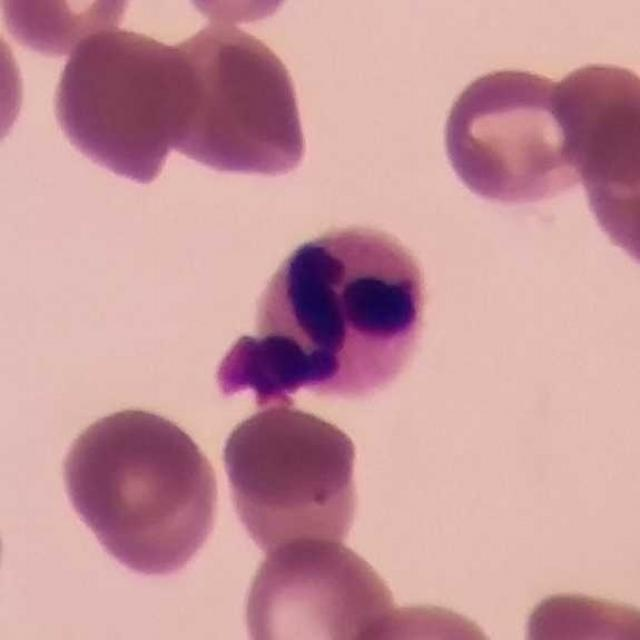Neutrophil: (204, 215, 443, 417)
RBC: (55, 398, 227, 584), (155, 23, 315, 185), (47, 23, 207, 184), (216, 399, 367, 562), (435, 59, 590, 211), (235, 531, 404, 640), (572, 77, 640, 283), (547, 57, 640, 197), (0, 0, 140, 59), (336, 595, 511, 640), (515, 582, 639, 640), (0, 9, 31, 170), (158, 0, 313, 29)
